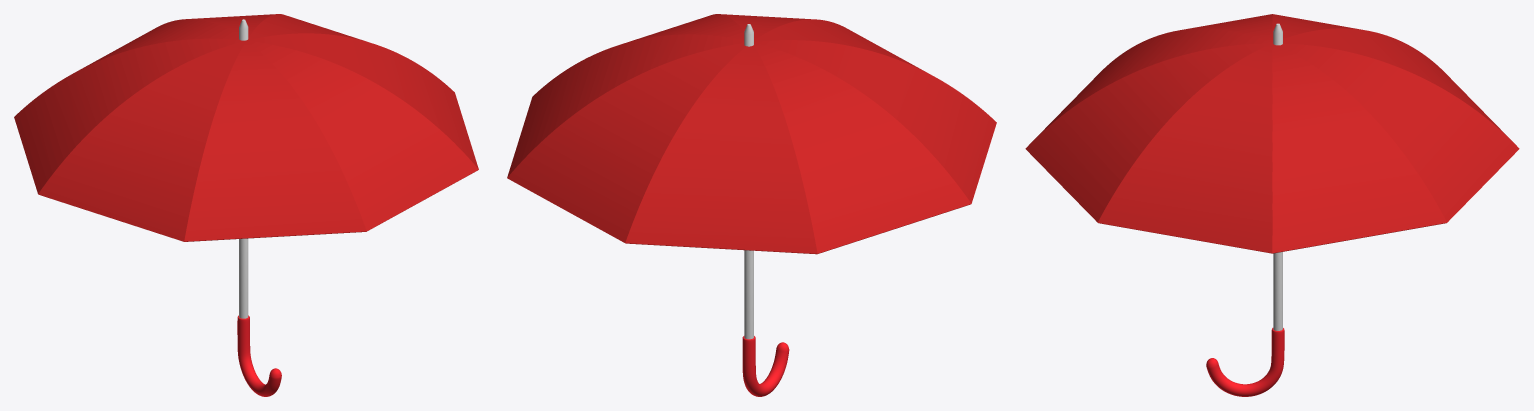
File: UMBRELLA.fbx
3 views of the same model, side by side, from view 1: azimuth 30°, elevation 25°; view 2: azimuth 150°, elevation 25°; view 3: azimuth 270°, elevation 25° (orthographic). The views are drawn at different scales.
Parts seen in each view (by area): view 1: Cylinder.002; view 2: Cylinder.002; view 3: Cylinder.002.
Boxes of the visible parts, x1,y1,x2,y2 form: Cylinder.002: (14,14,478,396); Cylinder.002: (507,14,996,396); Cylinder.002: (1025,14,1519,396).
Size of the model in its own units: 308 by 256 by 308.
